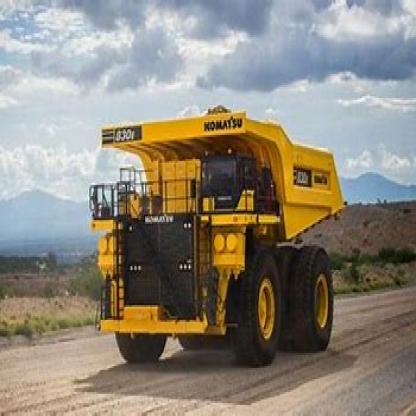dump_truck: (87, 94, 343, 372)
